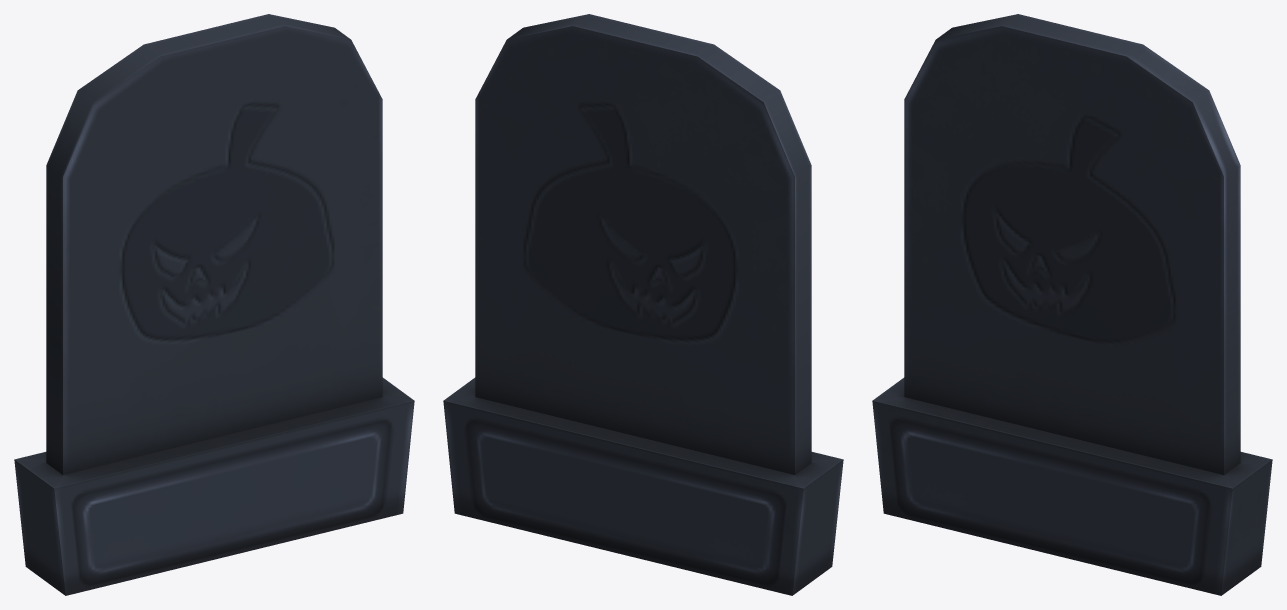
The model's file is Grave_02.FBX.
3 views of the same model, side by side, from view 1: azimuth 30°, elevation 25°; view 2: azimuth 150°, elevation 25°; view 3: azimuth 330°, elevation 25° (orthographic).
Visible parts, largest first — view 1: Grave_02; view 2: Grave_02; view 3: Grave_02.
Part boxes in pixels (box(x1,y1,x2,y2)): Grave_02: box(14, 14, 414, 595); Grave_02: box(443, 14, 843, 595); Grave_02: box(872, 14, 1272, 595).
Bounding box in the file's own units: 50.41 × 67.49 × 9.67.
